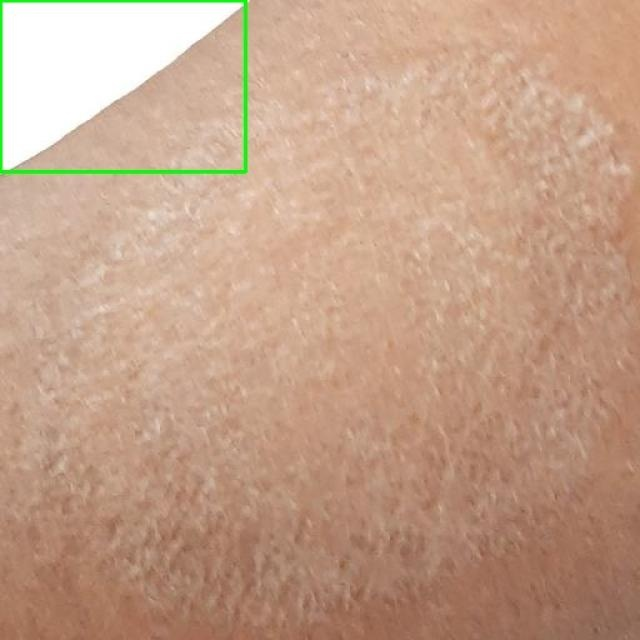Tinea Corporis: (0, 0, 245, 171)
